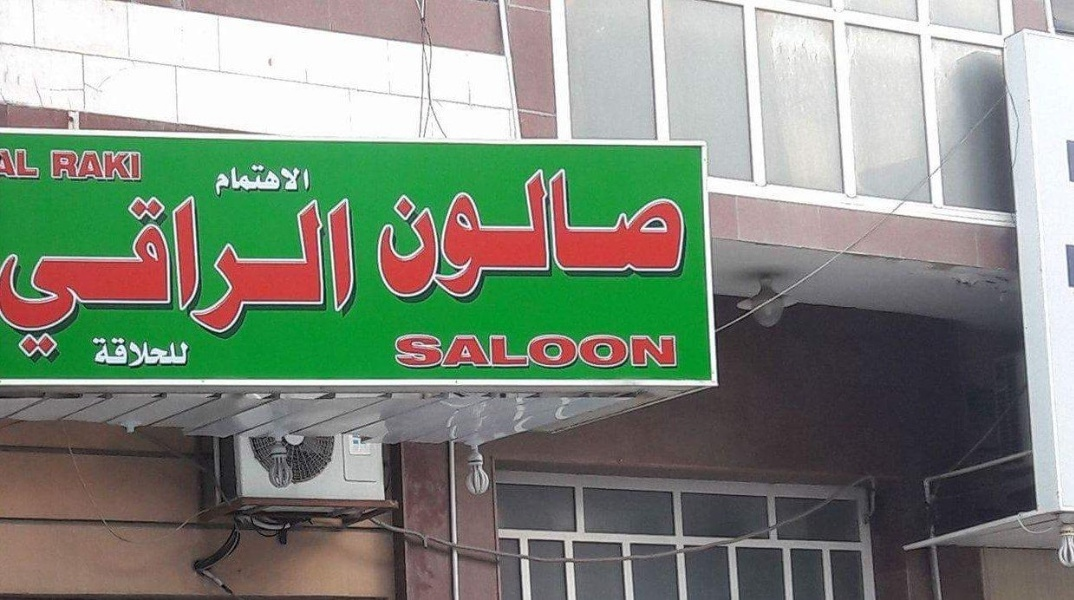text: (17, 194, 32, 363), (33, 194, 48, 363), (49, 194, 64, 363), (65, 194, 80, 363), (81, 194, 96, 363), (97, 194, 112, 363), (113, 194, 128, 363), (129, 194, 144, 363), (145, 194, 160, 363), (161, 194, 176, 363), (177, 194, 192, 363), (193, 194, 208, 363), (209, 194, 224, 363), (225, 194, 240, 363), (241, 194, 256, 363), (257, 194, 272, 363), (273, 194, 288, 363), (289, 194, 304, 363), (305, 194, 320, 363), (321, 194, 336, 363), (337, 194, 352, 363), (2, 194, 16, 363), (385, 170, 400, 300), (401, 170, 416, 300), (417, 170, 432, 300), (433, 170, 448, 300), (449, 170, 464, 300), (465, 170, 480, 300), (481, 170, 496, 300), (497, 170, 512, 300), (513, 170, 528, 300), (529, 170, 544, 300), (545, 170, 560, 300), (561, 170, 576, 300), (577, 170, 592, 300), (593, 170, 608, 300), (609, 170, 624, 300), (625, 170, 640, 300), (641, 170, 656, 300), (657, 170, 672, 300), (673, 170, 686, 300), (377, 170, 384, 300), (401, 331, 416, 370), (417, 331, 432, 370), (433, 331, 448, 370), (449, 331, 464, 370), (465, 331, 480, 370), (481, 331, 496, 370), (497, 331, 512, 370), (513, 331, 528, 370), (529, 331, 544, 370), (545, 331, 560, 370), (561, 331, 576, 370), (577, 331, 592, 370), (593, 331, 608, 370), (609, 331, 624, 370), (625, 331, 640, 370), (641, 331, 656, 370), (657, 331, 672, 370), (1, 146, 16, 183), (17, 146, 32, 183), (97, 333, 112, 369), (113, 333, 128, 369), (129, 333, 144, 369), (145, 333, 160, 369), (161, 333, 176, 369), (225, 164, 240, 197), (241, 164, 256, 197), (257, 164, 272, 197), (273, 164, 288, 197), (289, 164, 304, 197), (65, 150, 80, 182), (81, 150, 96, 182), (97, 150, 112, 182), (113, 150, 128, 182), (129, 150, 143, 182), (177, 333, 189, 369), (51, 150, 64, 182), (353, 194, 355, 363), (33, 146, 41, 183), (673, 331, 680, 370), (217, 164, 224, 197), (395, 331, 400, 370), (91, 333, 96, 369), (305, 164, 310, 197)
